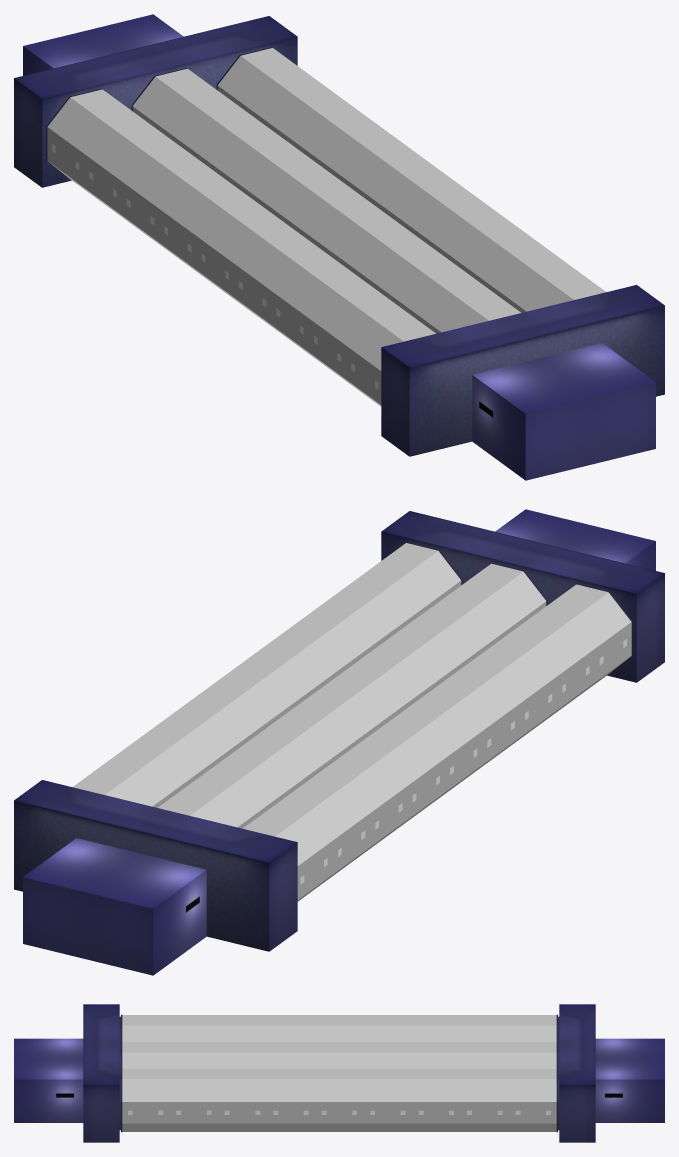
The model's file is Tunnels2.dae.
The picture shows the model from 3 angles, top to bottom: view 1: azimuth 30°, elevation 25°; view 2: azimuth 150°, elevation 25°; view 3: azimuth 270°, elevation 25°; orthographic projection. The views are drawn at different scales.
Parts seen in each view (by area): view 1: untitled2.obj (×8), group_4, group_41, group_25, group_6, group_24, group_52, group_20, group_51, group_0, group_30, group_11 (+16 smaller); view 2: untitled2.obj (×8), group_41, group_4, group_25, group_52, group_6, group_20, group_24, group_0, group_51, group_30, group_7 (+16 smaller); view 3: untitled2.obj (×8), group_32, group_36, group_17, group_18, group_30, group_44, group_49, group_13, group_53, group_20, group_23 (+16 smaller).
Boxes of the visible parts, x1,y1,x2,y2 form: untitled2.obj (×8): [14, 14, 664, 480]; group_4: [308, 281, 400, 395]; group_41: [84, 116, 176, 231]; group_25: [159, 171, 251, 285]; group_6: [271, 253, 363, 367]; group_24: [196, 198, 288, 313]; group_52: [121, 144, 213, 258]; group_20: [234, 226, 326, 341]; group_51: [47, 89, 139, 204]; group_0: [346, 308, 435, 406]; group_30: [366, 157, 458, 226]; group_11: [394, 260, 486, 329]; untitled2.obj (×8): [14, 509, 664, 975]; group_41: [278, 776, 370, 890]; group_4: [502, 611, 594, 726]; group_25: [352, 721, 444, 836]; group_52: [315, 748, 407, 862]; group_6: [465, 639, 557, 753]; group_20: [427, 666, 519, 780]; group_24: [390, 693, 482, 808]; group_0: [539, 584, 631, 699]; group_51: [243, 803, 332, 901]; group_30: [220, 652, 312, 721]; group_7: [379, 618, 471, 687]; untitled2.obj (×8): [14, 1004, 664, 1142]; group_32: [363, 1069, 412, 1131]; group_36: [266, 1069, 315, 1131]; group_17: [218, 1069, 266, 1131]; group_18: [170, 1069, 218, 1131]; group_30: [315, 1069, 363, 1131]; group_44: [460, 1069, 508, 1131]; group_49: [412, 1069, 460, 1131]; group_13: [122, 1069, 169, 1131]; group_53: [509, 1069, 556, 1131]; group_20: [266, 1015, 315, 1041]; group_23: [363, 1042, 412, 1068].
Bounding box in the file's own units: 425 × 1450 × 142.
